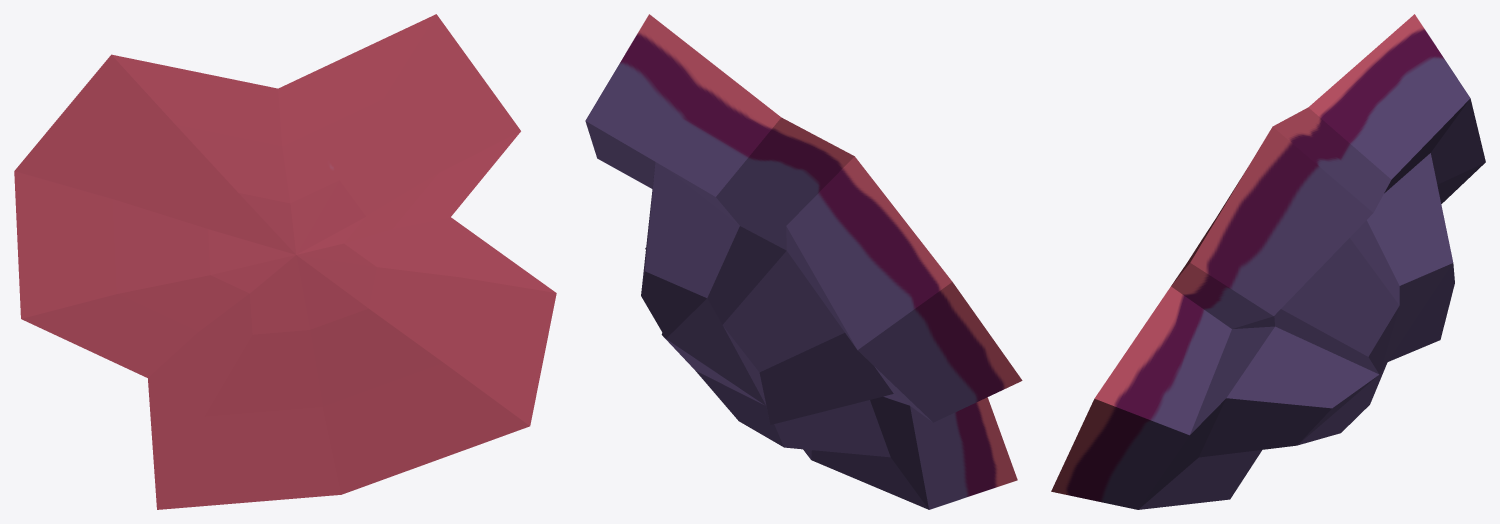
File: Isla mediana 2.fbx
3 views of the same model, side by side, from view 1: azimuth 30°, elevation 25°; view 2: azimuth 150°, elevation 25°; view 3: azimuth 270°, elevation 25° (orthographic). The views are drawn at different scales.
Visible parts, largest first — view 1: Islas; view 2: Islas; view 3: Islas.
Part boxes in pixels (x1,y1,x2,y2): Islas: (14,14,556,509); Islas: (585,14,1022,509); Islas: (1051,14,1485,509).
Size of the model in its own units: 2034 by 1816 by 1608.
